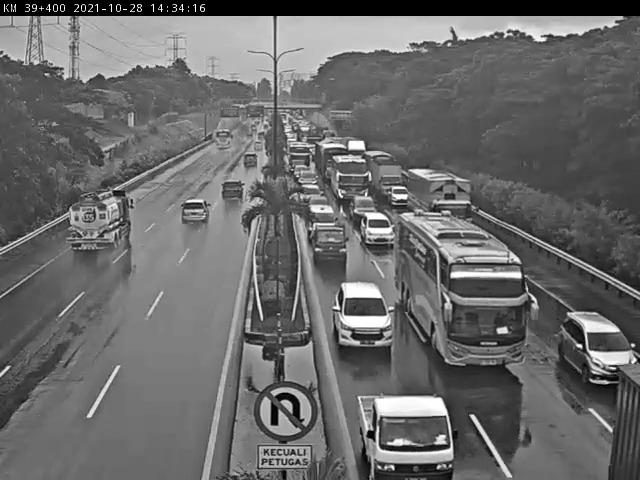big bus: (399, 212, 533, 373), (329, 154, 370, 205), (286, 142, 312, 172)
big truck: (67, 186, 135, 256), (411, 170, 472, 224), (319, 146, 350, 179)
car: (354, 392, 455, 480), (558, 308, 640, 391), (333, 281, 398, 356), (312, 224, 350, 263), (360, 213, 394, 249), (487, 243, 509, 289), (306, 205, 339, 231), (181, 197, 212, 224), (348, 195, 378, 221), (220, 177, 246, 204), (305, 195, 330, 215), (387, 184, 408, 205), (300, 183, 321, 202), (298, 172, 321, 187), (241, 151, 259, 169), (292, 164, 310, 180)
small truck: (368, 159, 404, 198)
